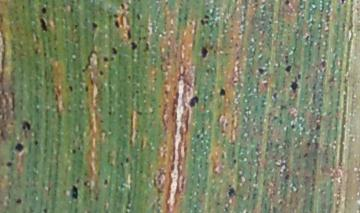tarspot: (37, 16, 49, 33), (224, 183, 236, 198), (70, 183, 79, 202), (186, 96, 200, 108), (290, 74, 298, 94), (20, 119, 32, 132), (13, 141, 25, 152), (199, 46, 209, 59), (126, 27, 133, 42), (128, 40, 138, 50), (257, 67, 267, 77), (40, 5, 49, 16), (142, 42, 150, 54), (218, 87, 227, 97), (125, 73, 134, 83), (315, 123, 323, 134), (320, 60, 329, 69), (284, 64, 293, 73), (110, 46, 119, 55), (91, 20, 99, 30), (98, 69, 107, 77), (53, 92, 60, 102), (83, 83, 90, 93), (124, 156, 132, 164), (15, 196, 22, 205), (5, 160, 14, 167), (102, 55, 109, 64), (67, 84, 74, 93), (289, 122, 296, 131), (135, 109, 144, 116), (33, 139, 40, 147), (113, 19, 120, 27), (82, 180, 90, 187), (135, 12, 141, 21), (283, 174, 292, 180), (103, 178, 109, 187), (109, 55, 116, 62), (232, 158, 239, 165), (72, 23, 80, 29), (94, 194, 99, 203), (42, 206, 48, 213), (113, 13, 120, 19), (203, 14, 210, 20), (134, 88, 140, 95), (283, 1, 291, 6), (296, 72, 301, 80), (303, 151, 308, 159), (204, 19, 210, 25), (120, 3, 125, 10), (199, 18, 204, 25), (71, 147, 76, 154), (107, 110, 112, 116), (306, 141, 310, 147), (340, 1, 344, 5)
